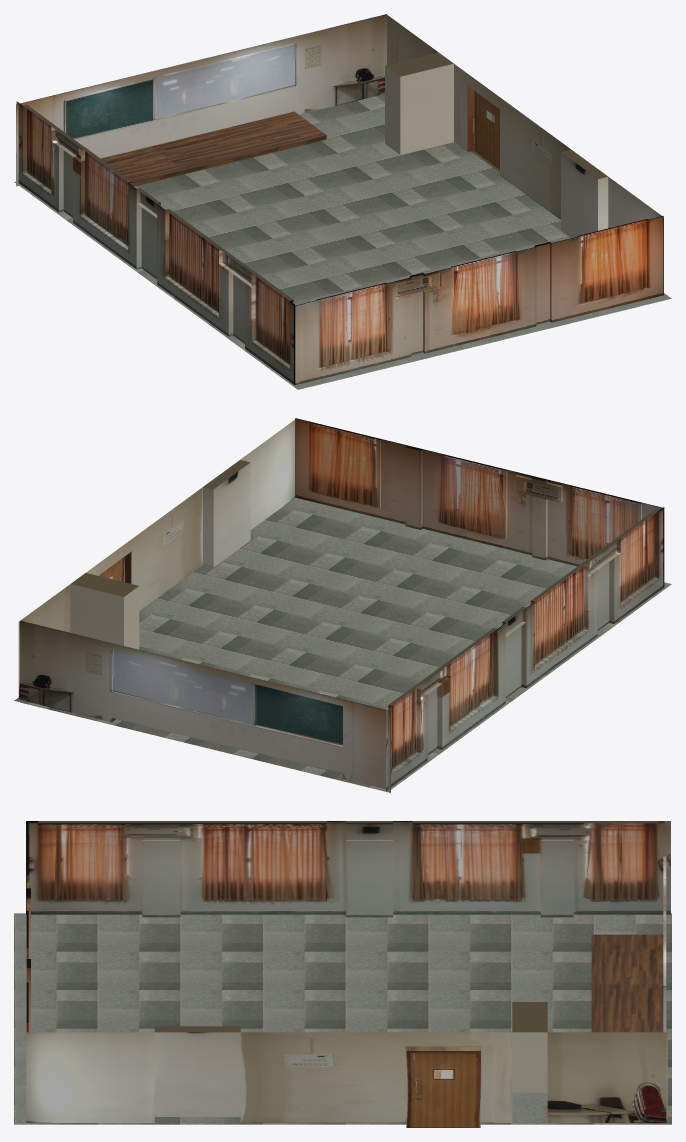
Rendered from room618-DrlhzhaK.glb.
The picture shows the model from 3 angles, top to bottom: view 1: azimuth 30°, elevation 25°; view 2: azimuth 150°, elevation 25°; view 3: azimuth 270°, elevation 25°; orthographic projection. The views are drawn at different scales.
Visible parts, largest first — view 1: Plane.004, Plane.002, Plane.003, Plane, Plane.001; view 2: Plane.004, Plane.002, Plane.003, Plane, Plane.001; view 3: Plane.004, Plane, Plane.001, Plane.002, Plane.003.
Part boxes in pixels (x1,y1,x2,y2): Plane.004: (14,94,671,389); Plane.002: (16,14,386,186); Plane.003: (295,216,663,384); Plane: (16,101,295,385); Plane.001: (385,15,663,294); Plane.004: (14,497,671,791); Plane.002: (20,620,390,792); Plane.003: (295,418,662,566); Plane: (386,507,664,790); Plane.001: (18,419,295,699); Plane.004: (14,913,671,1124); Plane: (26,821,670,917); Plane.001: (26,1002,667,1127); Plane.002: (591,856,666,1032); Plane.003: (26,835,30,1032).
Size of the model in its own units: 106 by 22.31 by 138.
Materials: 5 (5 with a texture image).
